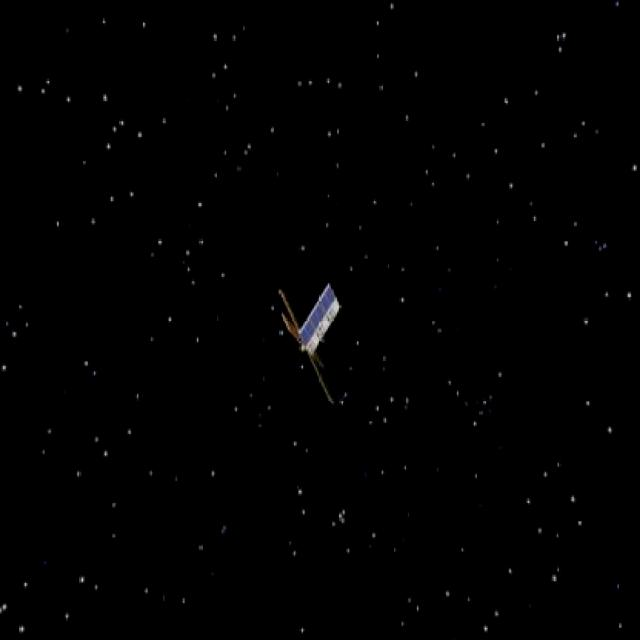satellite: (259, 269, 367, 408)
